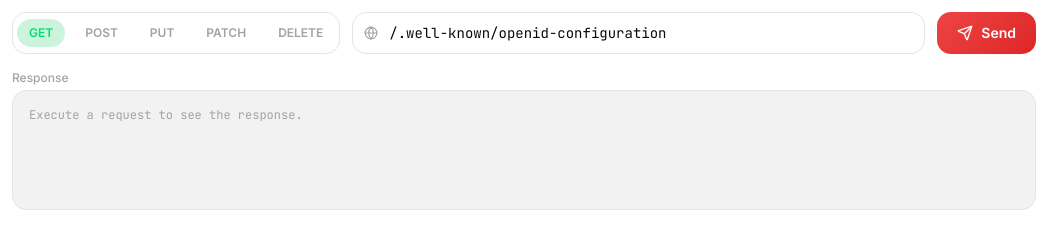
GenericRequestFlow › sends a GET by default
Click the button "Send" at (987, 33), box [937,12,1036,54]
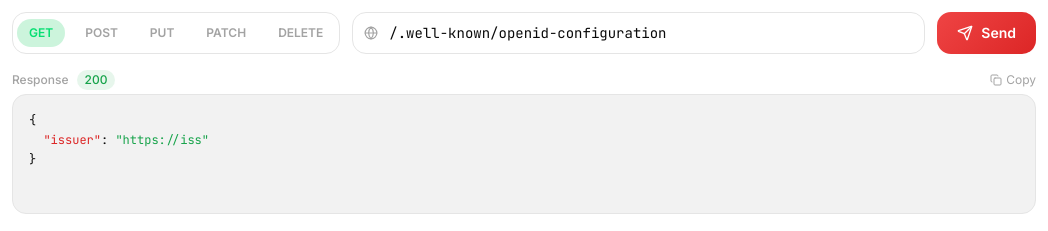
Expected: the text "\"issuer\"" is shown, [43,132,101,148]
